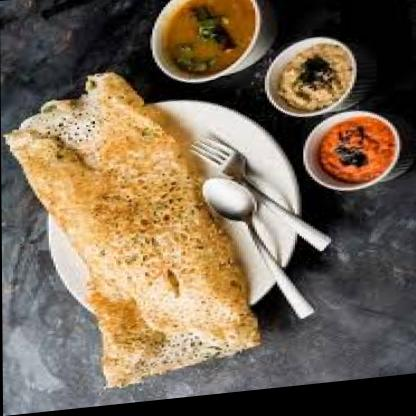dosa: (4, 63, 258, 397)
